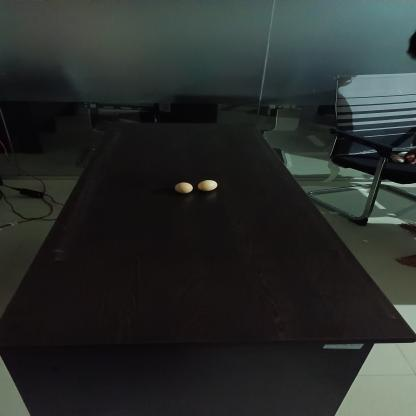egg: (196, 178, 218, 192), (176, 180, 196, 192)
